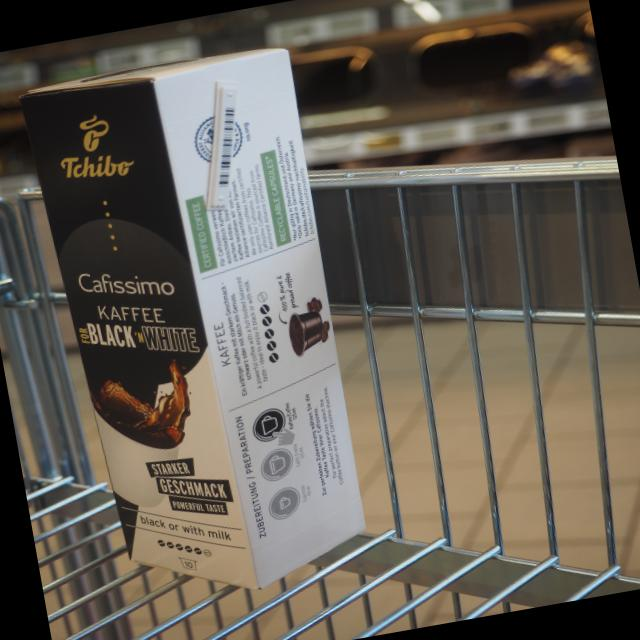Simo Kaffee BW: (11, 39, 382, 616)
